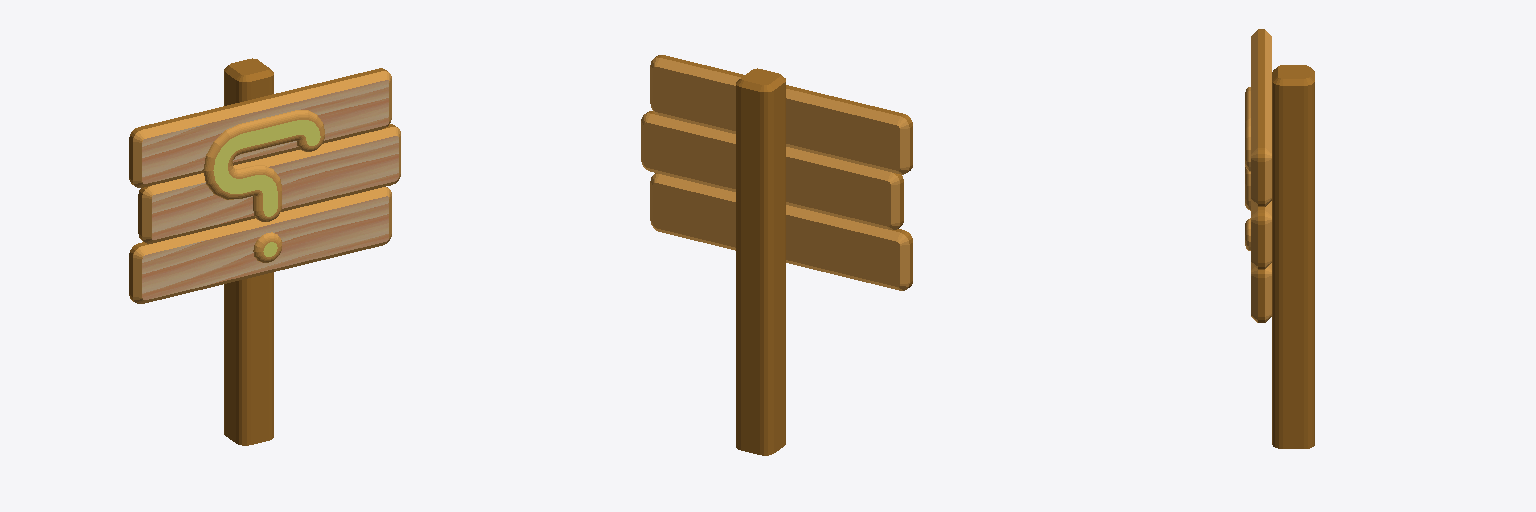
3 renders of one model, left to right at view 1: azimuth 30°, elevation 25°; view 2: azimuth 150°, elevation 25°; view 3: azimuth 270°, elevation 25°, orthographic.
Visible parts, largest first — view 1: Sign_Front.001, Wood_Medium.001, Post.001, Symbol_Paint.001, Wood_Dark.001; view 2: Sign_Back.001, Post.001, Wood_Medium.001, Wood_Dark.001; view 3: Post.001, Wood_Medium.001, Wood_Dark.001, Symbol_Paint.001.
Part boxes in pixels (left/top/right/bottom): Sign_Front.001: left=142, top=80, right=398, bottom=299; Wood_Medium.001: left=133, top=71, right=400, bottom=303; Post.001: left=224, top=65, right=273, bottom=445; Symbol_Paint.001: left=203, top=110, right=324, bottom=262; Wood_Dark.001: left=129, top=68, right=397, bottom=301; Sign_Back.001: left=644, top=67, right=899, bottom=286; Post.001: left=736, top=75, right=785, bottom=455; Wood_Medium.001: left=641, top=57, right=909, bottom=290; Wood_Dark.001: left=646, top=55, right=912, bottom=287; Post.001: left=1272, top=67, right=1314, bottom=448; Wood_Medium.001: left=1251, top=30, right=1271, bottom=322; Wood_Dark.001: left=1258, top=29, right=1264, bottom=322; Symbol_Paint.001: left=1245, top=87, right=1250, bottom=250.
Size of the model in its own units: 0.725 by 0.95 by 0.1638.
Materials: 4 (2 with a texture image).